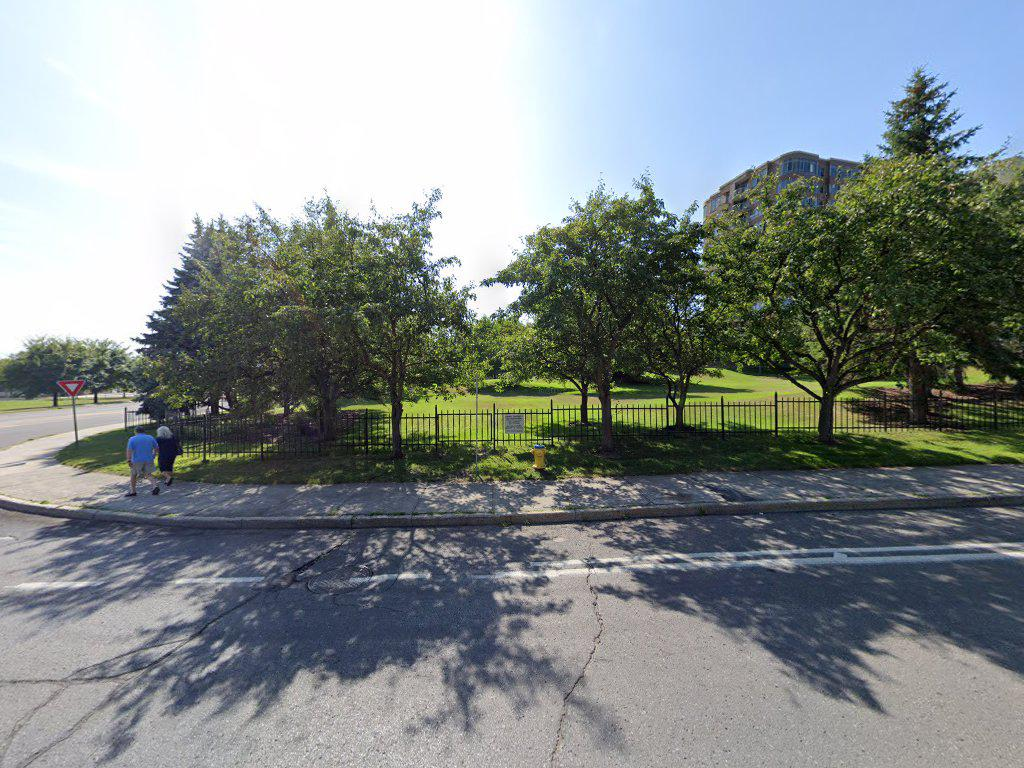trunk: (387, 369, 408, 449), (819, 368, 837, 445)
